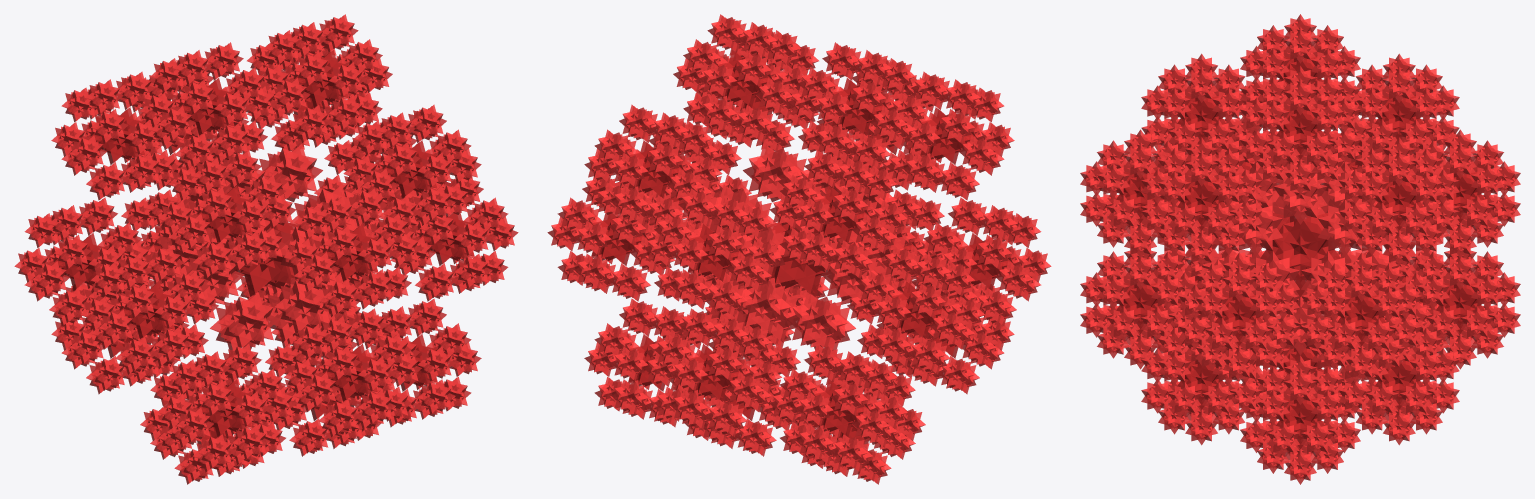
File: fractalgreatrhombictriacontahedron2.glb
3 renders of one model, left to right at view 1: azimuth 30°, elevation 25°; view 2: azimuth 150°, elevation 25°; view 3: azimuth 270°, elevation 25°, orthographic. The views are drawn at different scales.
Bounding box in the file's own units: 11.17 × 11.17 × 11.17.
